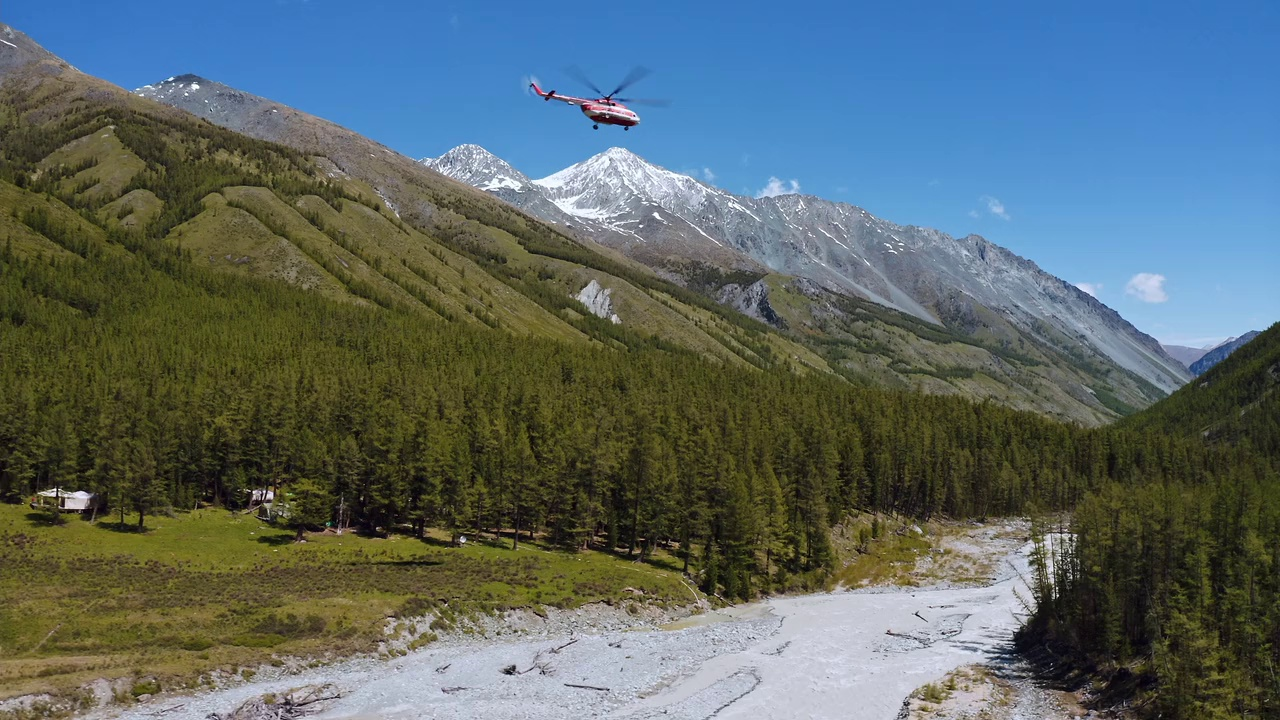heli: (526, 68, 666, 129)
